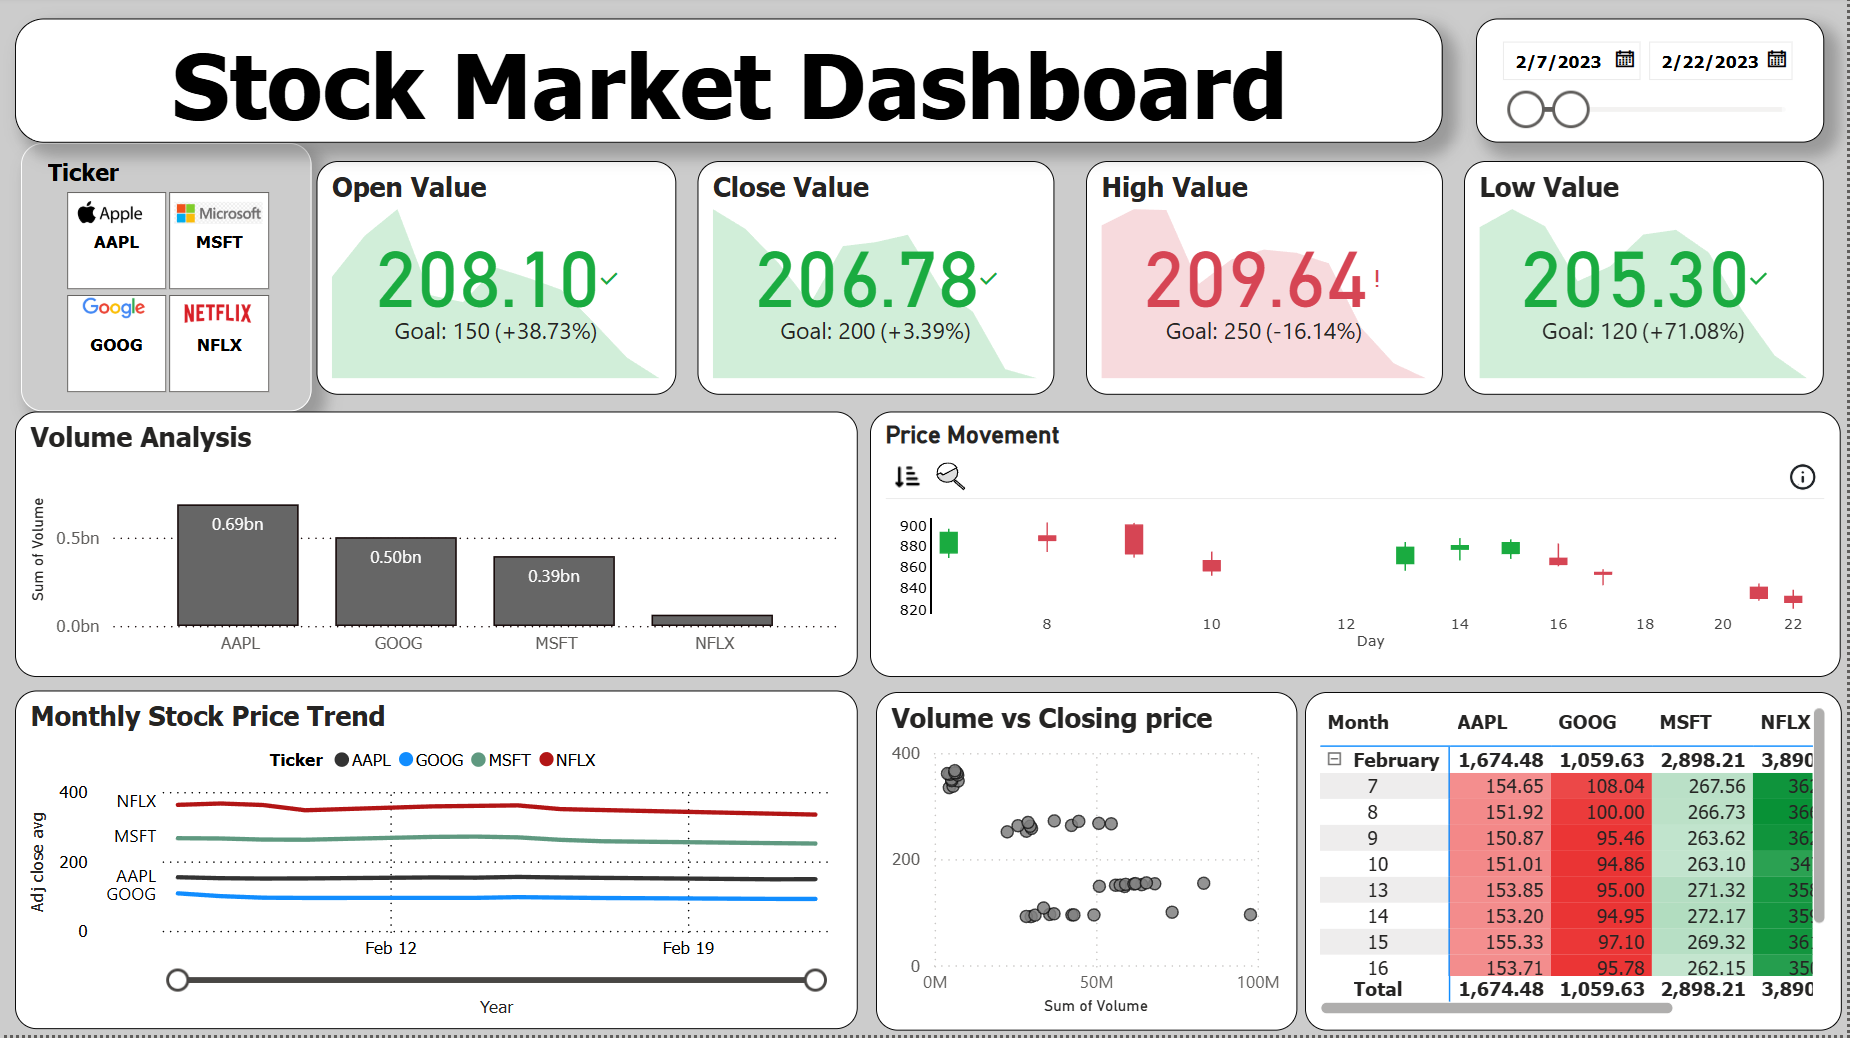

Layout of this report page (visuals, bound fields, positions):
{"tool":"powerbi","page":{"name":"Page 1","canvas":[1280,720],"ordinal":0},"visuals":[{"type":"lineChart","title":"Monthly Stock Price Trend ","fields":{"Category":["stocks (1).Date.Variation.Date Hierarchy.Year","stocks (1).Date.Variation.Date Hierarchy.Month","stocks (1).Date.Variation.Date Hierarchy.Day"],"Series":["stocks (1).Ticker"],"Y":["Avg(stocks (1).Adj Close)"]},"box":[10.4,481.3,584.2,234.9],"z":0},{"type":"slicer","fields":{"Values":["stocks (1).Ticker"]},"box":[14.6,101.9,201.7,186.1],"z":1000},{"type":"candlestick95C27C147643B5E840B1D29AC39783F7","title":"Price Movement","fields":{"col_1":["Sum(stocks (1).Open)"],"col_2":["Sum(stocks (1).High)"],"col_3":["Sum(stocks (1).Low)"],"col_4":["Sum(stocks (1).Close)"],"col_0":["stocks (1).Date.Variation.Date Hierarchy.Day"]},"box":[602.9,287.9,672.5,184],"z":2000},{"type":"kpi","title":"Open Value","fields":{"TrendLine":["stocks (1).Date"],"Goal":["stocks (1).Target Value"],"Indicator":["Avg(stocks (1).Open)"]},"box":[219.3,114.3,249.5,162.2],"z":3000},{"type":"clusteredColumnChart","title":"Volume Analysis","fields":{"Category":["stocks (1).Ticker"],"Y":["Sum(stocks (1).Volume)"]},"box":[10.4,287.9,584.2,184],"z":4000},{"type":"slicer","fields":{"Values":["stocks (1).Date"]},"box":[1022.8,15.6,241.2,86.3],"z":5000},{"type":"kpi","title":"Close Value","fields":{"TrendLine":["stocks (1).Date"],"Goal":["stocks (1).Fixed Target Close"],"Indicator":["Avg(stocks (1).Close)"]},"box":[483.4,114.3,247.4,162.2],"z":6000},{"type":"kpi","title":"High Value","fields":{"TrendLine":["stocks (1).Date"],"Goal":["stocks (1).Fixed Target High"],"Indicator":["Avg(stocks (1).High)"]},"box":[752.6,114.3,247.4,162.2],"z":7000},{"type":"kpi","title":"Low Value","fields":{"TrendLine":["stocks (1).Date"],"Goal":["stocks (1).Fixed Target Low"],"Indicator":["Avg(stocks (1).Low)"]},"box":[1014.5,114.3,249.5,162.2],"z":8000},{"type":"image","box":[115.4,132,71.7,36.4],"z":9000},{"type":"image","box":[41.6,132,69.6,35.3],"z":10000},{"type":"image","box":[35.3,203.7,87.3,24.9],"z":11000},{"type":"image","box":[122.7,203.7,56.1,32.2],"z":12000},{"type":"textbox","title":"Stock Market Dashboard","box":[10.4,15.6,989.6,86.3],"z":13000},{"type":"scatterChart","title":"Volume vs Closing price","fields":{"X":["Sum(stocks (1).Volume)"],"Y":["stocks (1).Close"]},"box":[607.1,482.3,292.1,234.9],"z":13001},{"type":"pivotTable","fields":{"Values":["Sum(stocks (1).Close)"],"Columns":["stocks (1).Ticker"],"Rows":["stocks (1).Date.Variation.Date Hierarchy.Month","stocks (1).Date.Variation.Date Hierarchy.Day"]},"box":[904.3,482.3,372.1,234.9],"z":13002}]}

Visuals, with their boxes in screenshot pixels (x1, y1, x2, y2), scaled from the page's 1280x720 canvas onto the 1850x1038 screenshot:
"Monthly Stock Price Trend " lineChart: detection(15, 694, 859, 1033)
slicer - stocks (1).Ticker: detection(21, 147, 313, 415)
"Price Movement" candlestick95C27C147643B5E840B1D29AC39783F7: detection(871, 415, 1843, 680)
"Open Value" kpi: detection(317, 165, 678, 399)
"Volume Analysis" clusteredColumnChart: detection(15, 415, 859, 680)
slicer - stocks (1).Date: detection(1478, 22, 1827, 147)
"Close Value" kpi: detection(699, 165, 1056, 399)
"High Value" kpi: detection(1088, 165, 1445, 399)
"Low Value" kpi: detection(1466, 165, 1827, 399)
image: detection(167, 190, 270, 243)
image: detection(60, 190, 161, 241)
image: detection(51, 294, 177, 330)
image: detection(177, 294, 258, 340)
"Stock Market Dashboard" textbox: detection(15, 22, 1445, 147)
"Volume vs Closing price" scatterChart: detection(877, 695, 1300, 1034)
pivotTable - Sum(stocks (1).Close) x stocks (1).Ticker: detection(1307, 695, 1845, 1034)
